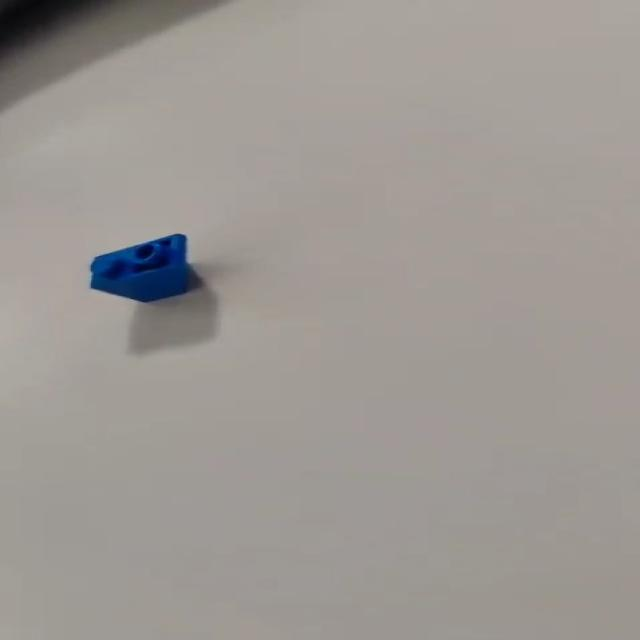X1x2x1: (76, 232, 215, 302)
